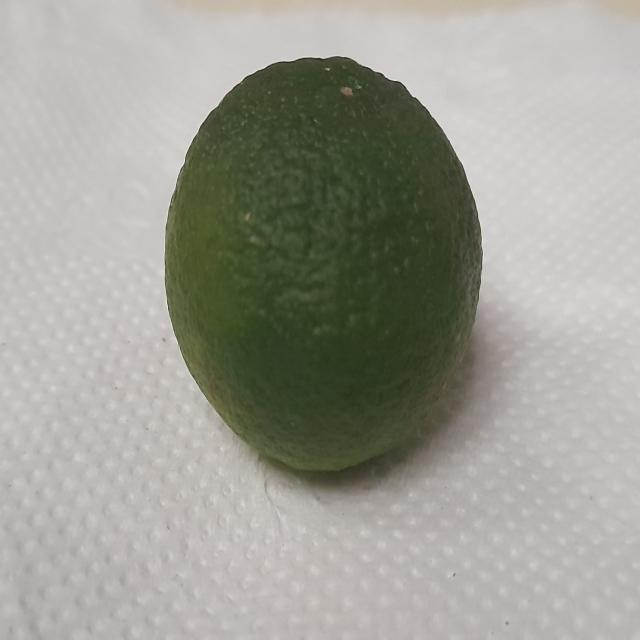heathy: (158, 42, 490, 486)
